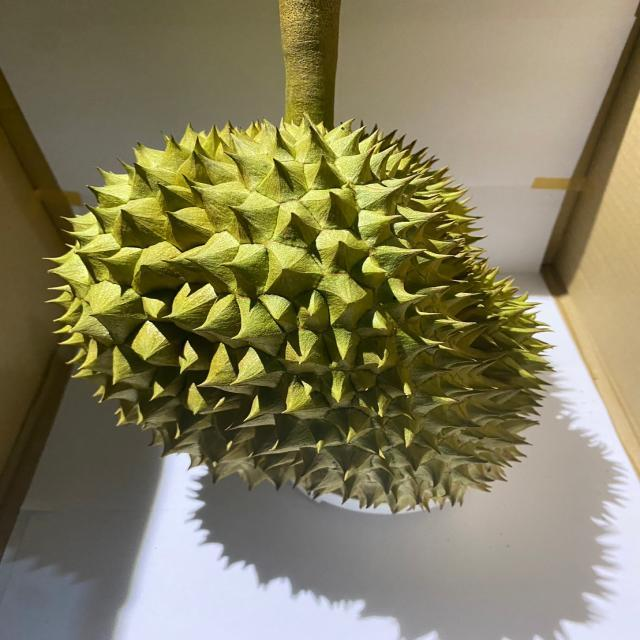immature: (43, 119, 559, 518)
